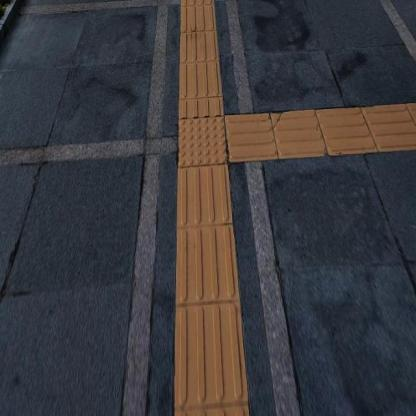podotacti: (174, 167, 252, 415), (230, 98, 415, 165), (158, 80, 261, 198), (178, 0, 226, 115)
